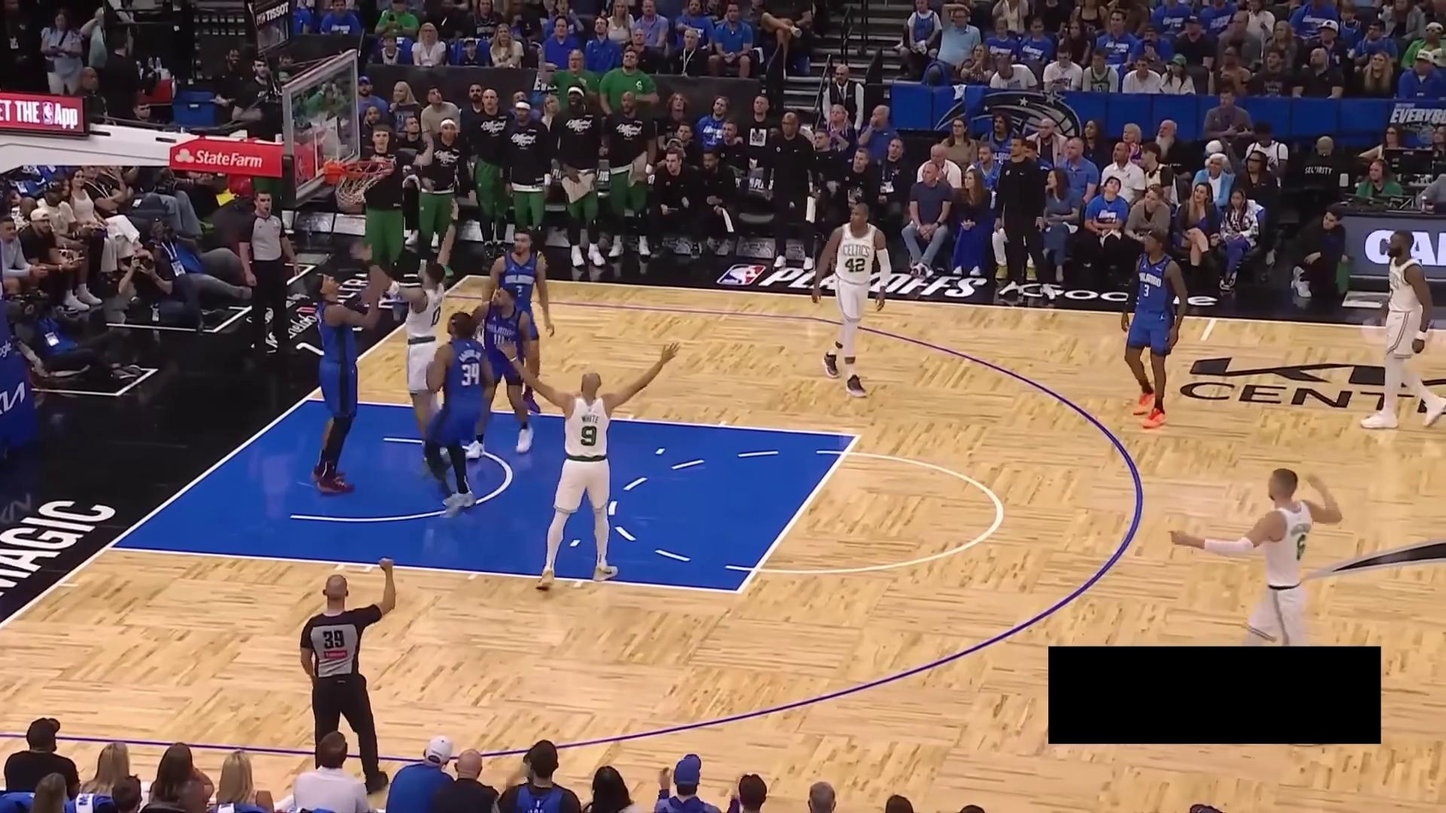ball: (338, 188, 367, 215)
ball-in-basket: (336, 157, 398, 213)
number: (456, 362, 481, 388), (579, 424, 598, 447), (845, 257, 866, 273), (430, 305, 443, 327), (1143, 284, 1150, 298)
player: (501, 339, 682, 594), (344, 192, 464, 473), (1167, 465, 1341, 647), (291, 259, 384, 495), (1361, 227, 1446, 431), (1113, 229, 1196, 434), (420, 309, 498, 519), (810, 203, 893, 398), (477, 225, 556, 414), (459, 283, 535, 466)
referee: (298, 558, 412, 795), (233, 187, 305, 358)
rim: (338, 158, 398, 178)
